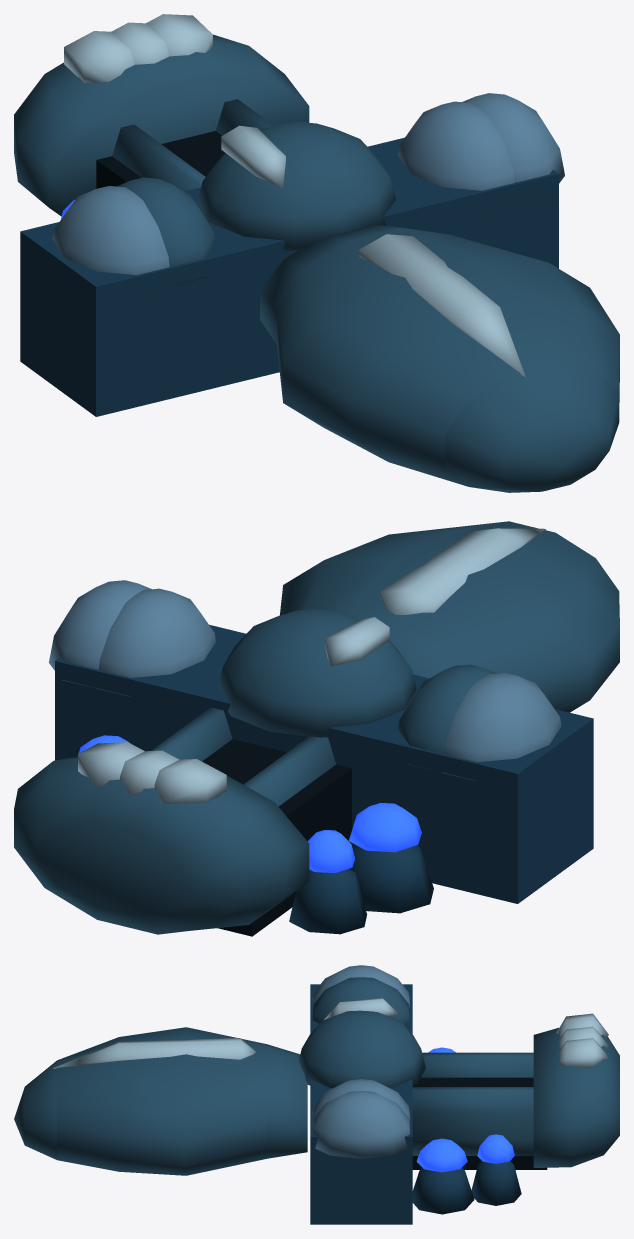
Rendered from newshm-123.glb.
The picture shows the model from 3 angles, top to bottom: view 1: azimuth 30°, elevation 25°; view 2: azimuth 150°, elevation 25°; view 3: azimuth 270°, elevation 25°; orthographic projection. The views are drawn at different scales.
Visible parts, largest first — view 1: newshm-123-step-125, newshm-123-step-123, newshm-123, newshm-123-step-127; view 2: newshm-123, newshm-123-step-125, newshm-123-step-123, newshm-123-step-127; view 3: newshm-123-step-125, newshm-123, newshm-123-step-123, newshm-123-step-127.
Boxes of the visible parts, x1,y1,x2,y2 form: newshm-123-step-125: (20,22,619,486); newshm-123-step-123: (55,31,618,492); newshm-123: (14,34,525,377); newshm-123-step-127: (146,14,212,56); newshm-123: (14,528,546,936); newshm-123-step-125: (49,521,619,903); newshm-123-step-123: (89,521,558,895); newshm-123-step-127: (78,742,144,786); newshm-123-step-125: (57,965,608,1224); newshm-123: (52,998,619,1214); newshm-123-step-123: (14,977,608,1159); newshm-123-step-127: (558,1038,608,1068).
Size of the model in its own units: 1.19 by 0.47 by 1.88.
